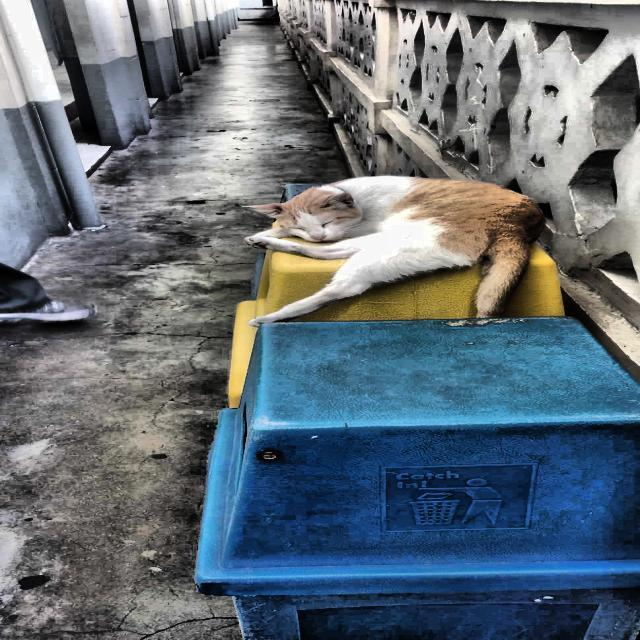Healthy skin: (398, 190, 491, 228)
